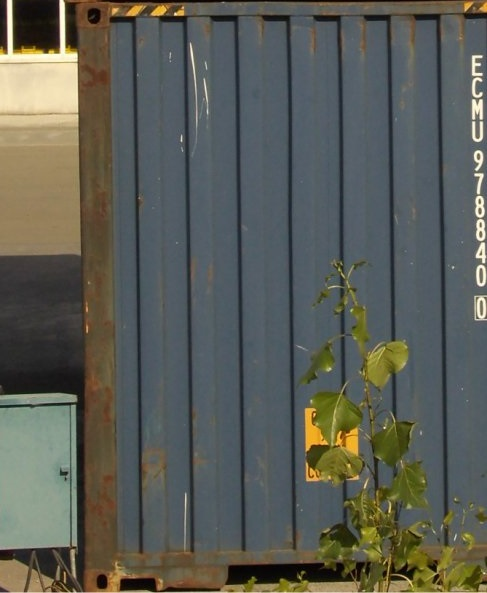container_no_door: (76, 3, 487, 588)
